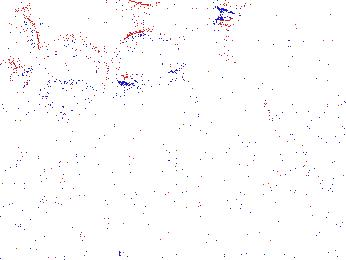moon jellyfish: (234, 3, 346, 108), (209, 16, 303, 85), (30, 36, 109, 92), (109, 29, 184, 84), (1, 8, 39, 78)
